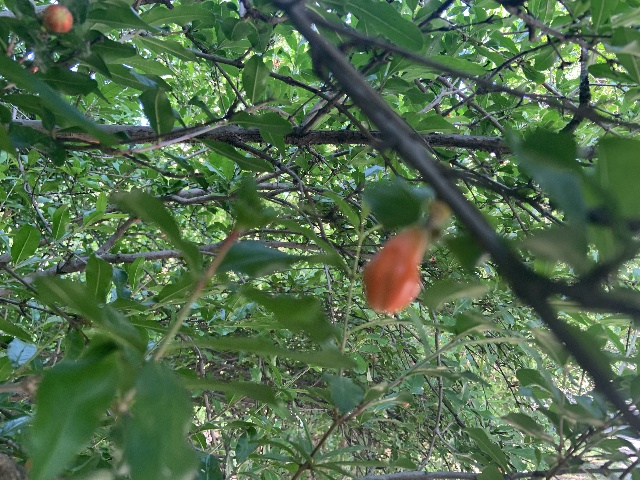bud: (363, 226, 426, 316), (43, 4, 73, 32)
